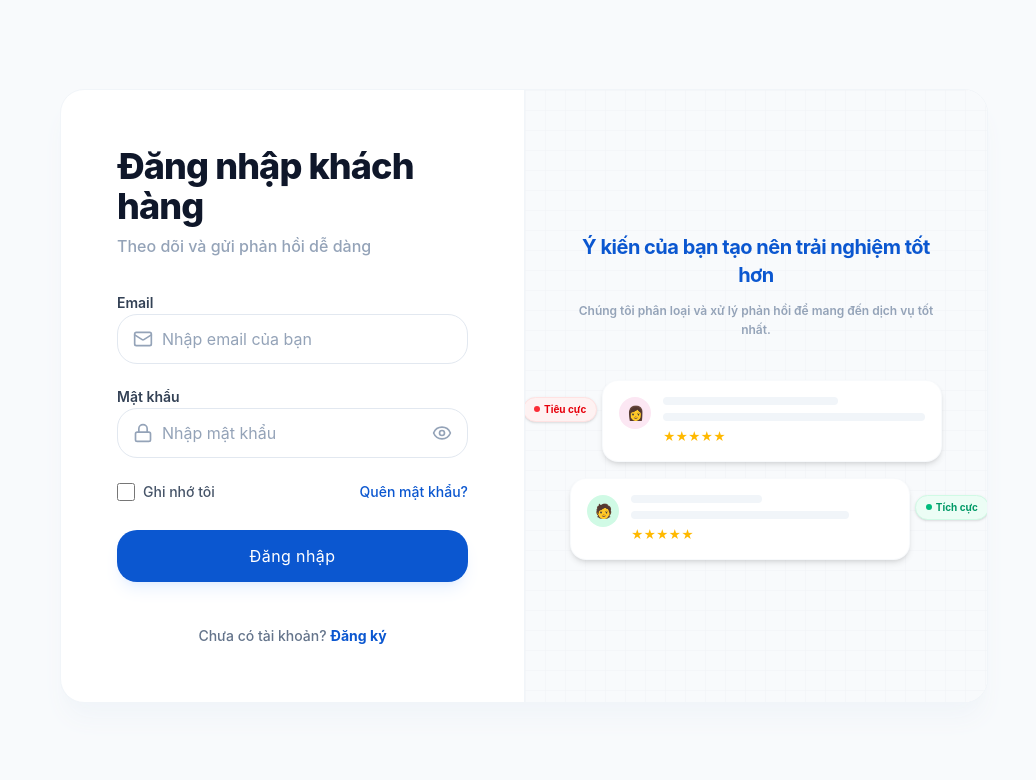
Test: Mục 1 (FE Security trên RAM) - Nhóm 1.1: Đăng nhập & Đăng xuất › [TC-FE-SEC-01] Đăng nhập hợp lệ lưu Token vào localStorage và chuyển sang /overview
Act (Thực thi): Nhập email, mật khẩu và bấm Đăng nhập
Type "manager@higen.vn" into the field with placeholder "Nhập email của bạn". click: coordinates (292, 339)
box: [117,314,468,364]
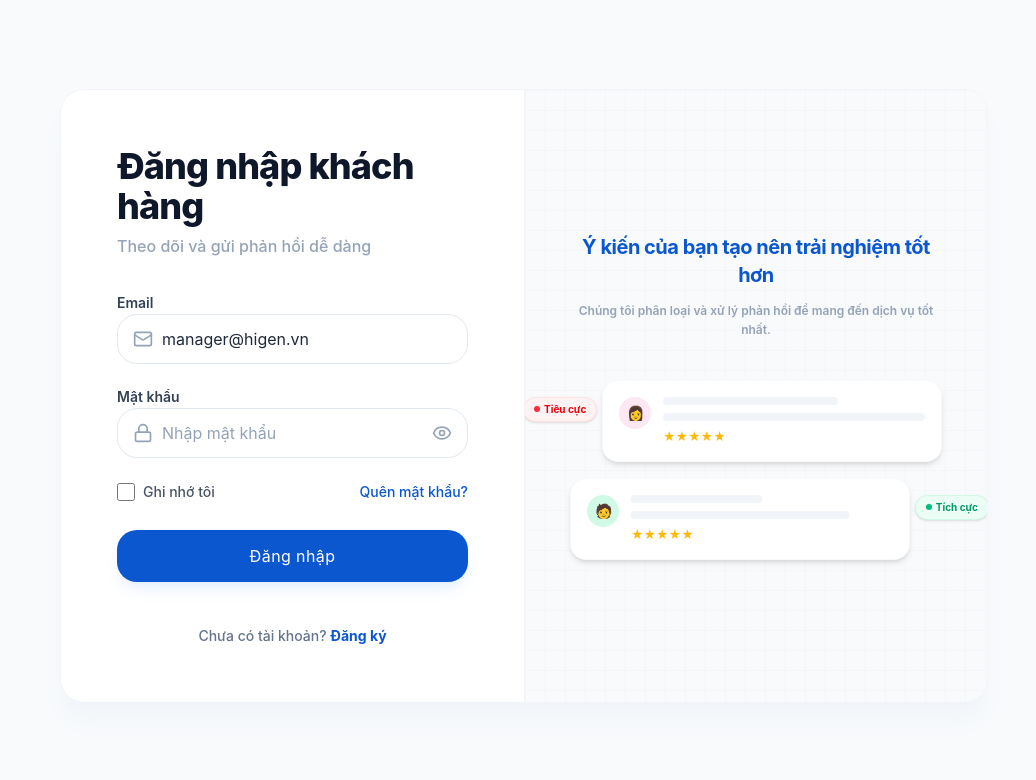
Type "Secret@123" into the password field with placeholder "Nhập mật khẩu". click: coordinates (292, 433)
box: [117,408,468,458]
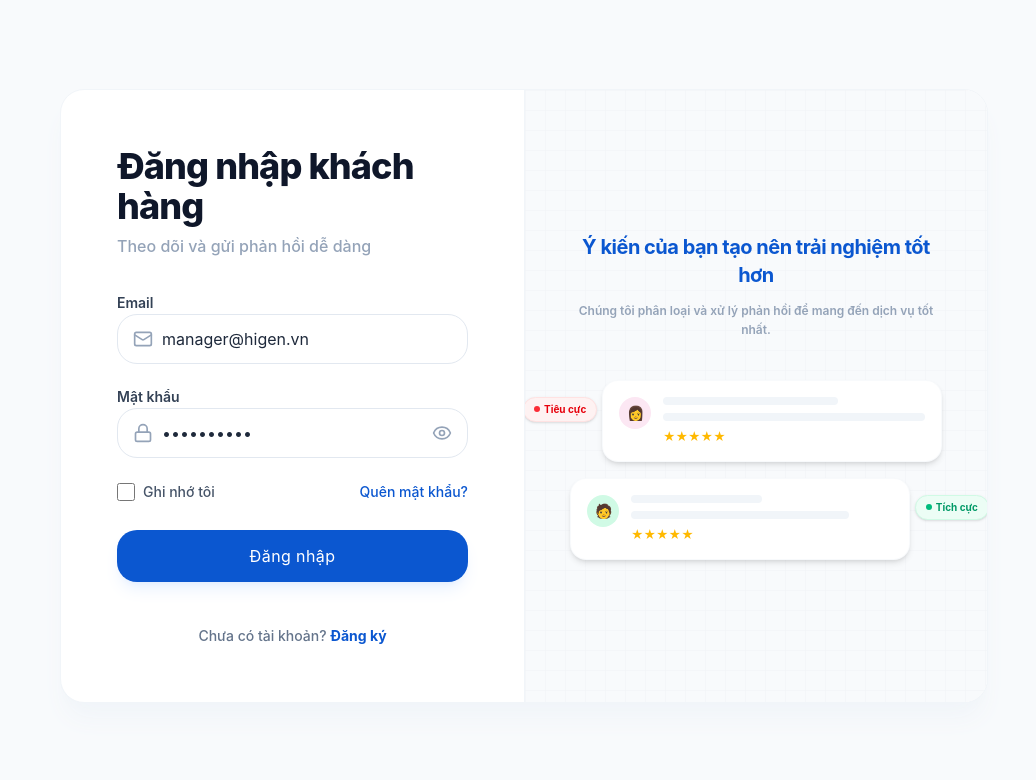
Click the button "Đăng nhập". click: coordinates (292, 556)
box: [117,530,468,582]
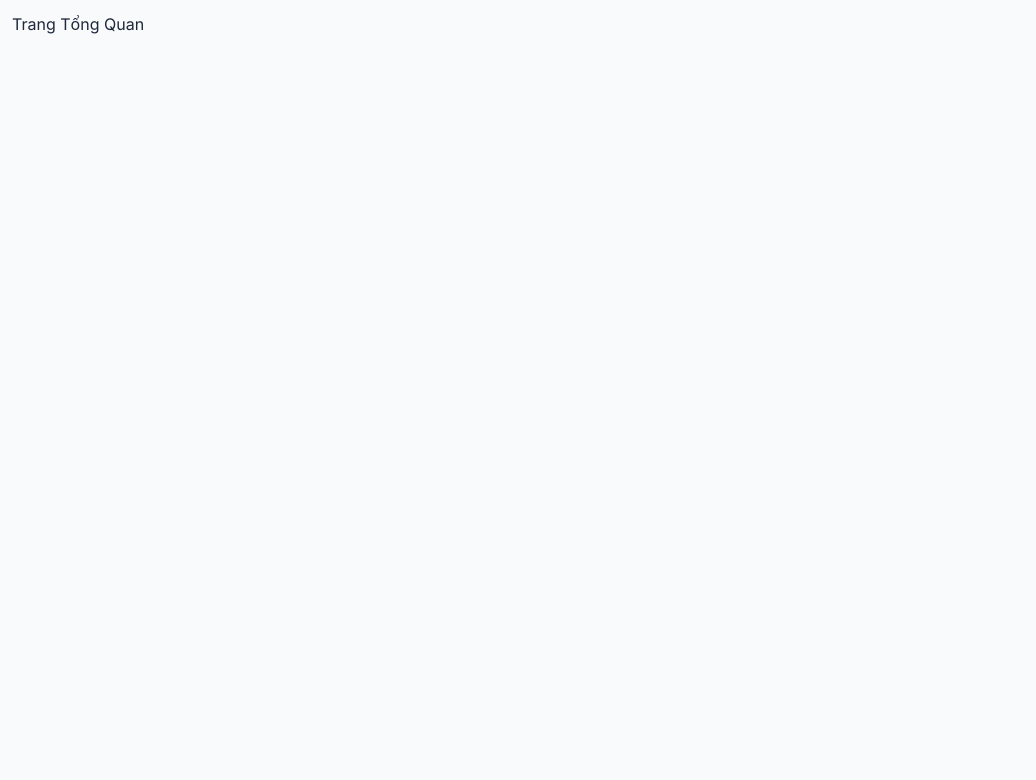
Expected: the text "Trang Tổng Quan" is shown, [12,14,144,34]
